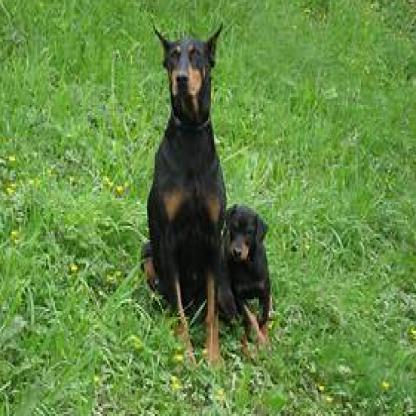dog: (141, 20, 226, 366), (222, 204, 270, 347)
